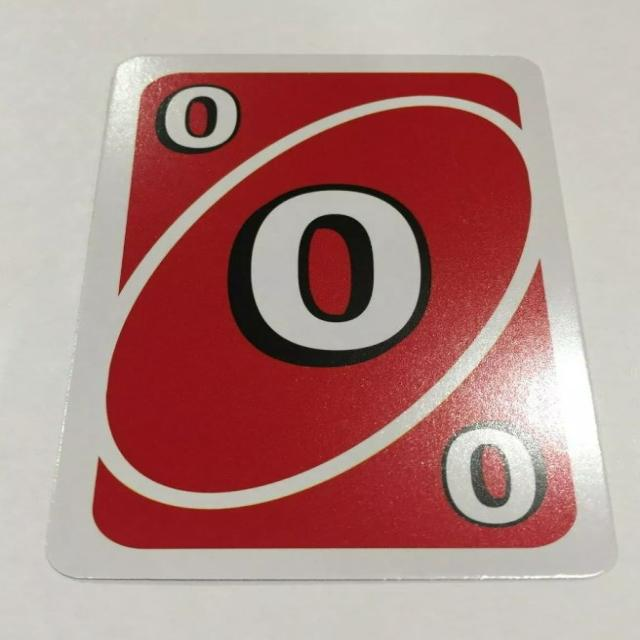Number_0: (153, 80, 245, 156)
Red_Card: (88, 67, 589, 557)
